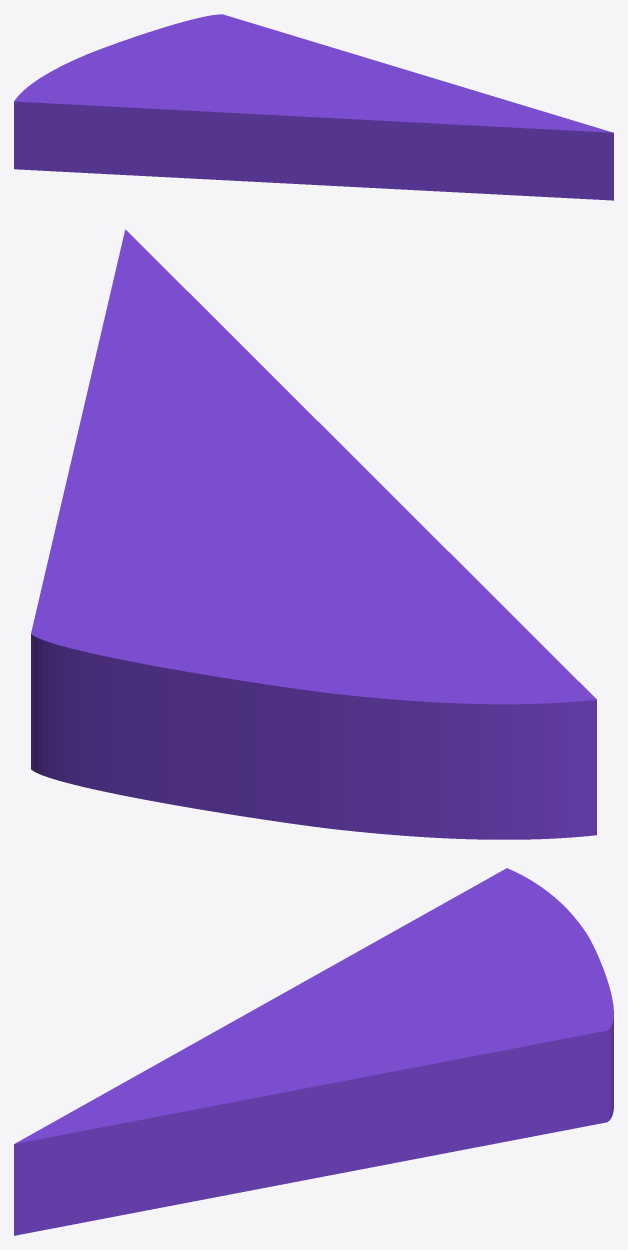
3 views of the same model, one above another, from view 1: azimuth 30°, elevation 25°; view 2: azimuth 150°, elevation 25°; view 3: azimuth 270°, elevation 25° (orthographic). The views are drawn at different scales.
Visible parts, largest first — view 1: Curve; view 2: Curve; view 3: Curve.
Part boxes in pixels (box(x1,y1,x2,y2)): Curve: box(14, 14, 613, 200); Curve: box(31, 229, 596, 839); Curve: box(14, 868, 613, 1235).
Bounding box in the file's own units: 0.1936 × 0.03 × 0.1778.
